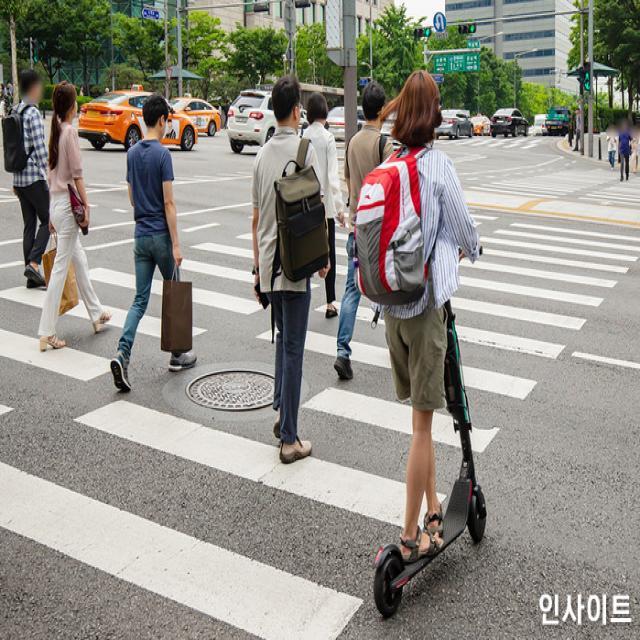non-helmet: (352, 67, 494, 624)
